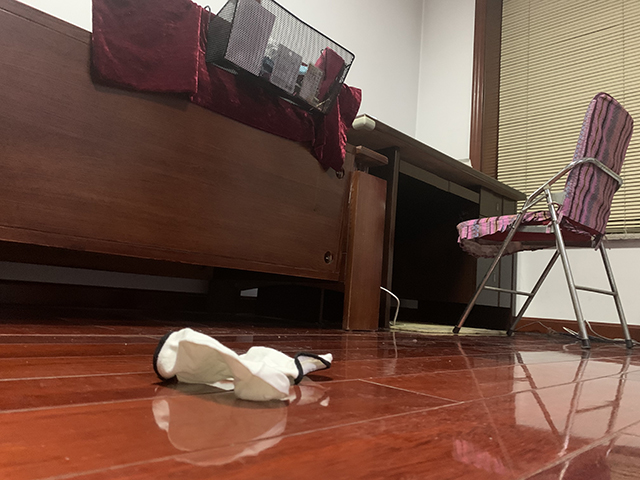bed: (1, 1, 392, 333)
carpet: (389, 320, 515, 338)
socks: (152, 325, 334, 402)
stool: (452, 90, 640, 349)
table: (347, 112, 528, 336)
wire: (518, 317, 640, 349), (381, 286, 401, 326)
